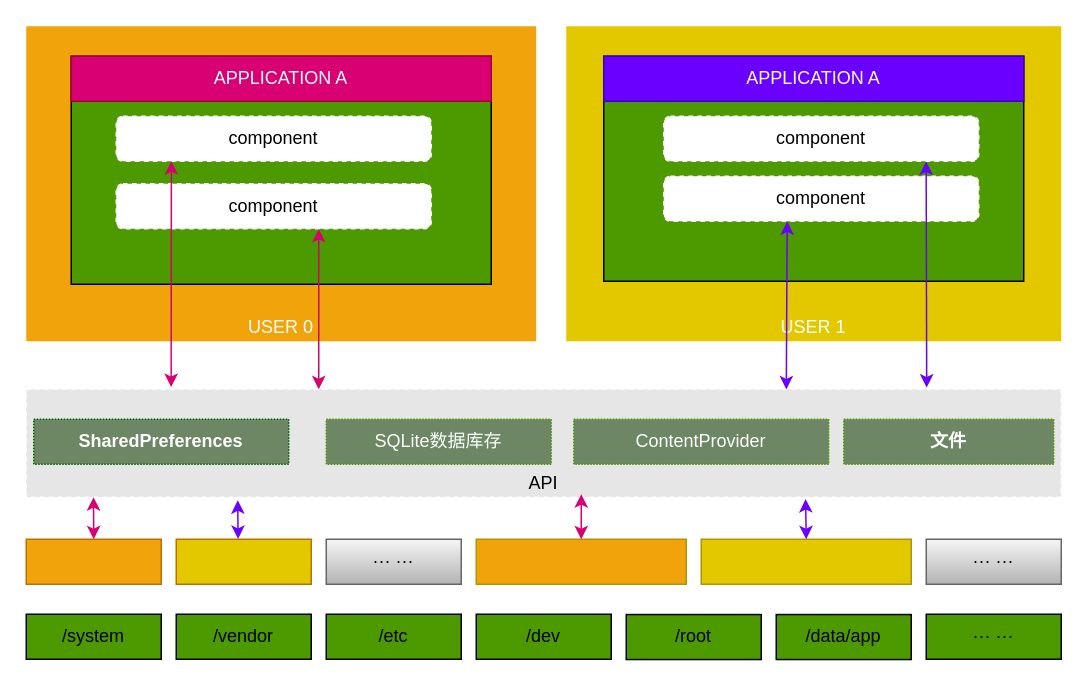
The diagram is 1088 pixels wide and 686 high, and some of its shapes have lost their labels. The shapes that lost their labels are listed below. From the top down, each one's centre as x and y in pixels, then its label:
(93,561): /data/user/0
(243,561): /data/user/10
(580,561): /storage/emulated/0
(805,561): /storage/emulated/10
